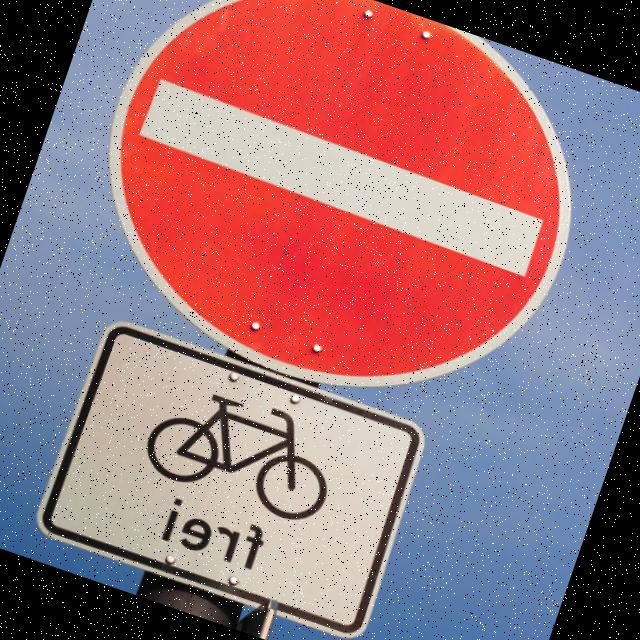do_not_enter: (29, 0, 640, 461)
